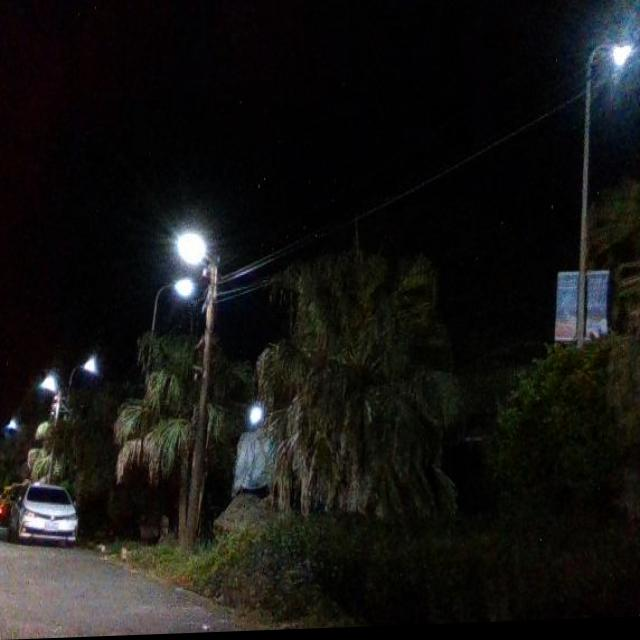pollute: (228, 421, 289, 500)
